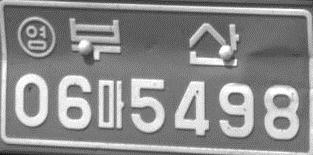0: (13, 71, 50, 127)
4: (173, 80, 209, 137)
5: (129, 77, 165, 134)
6: (57, 73, 91, 129)
8: (263, 83, 300, 140)
9: (217, 82, 255, 138)
마: (97, 78, 125, 131)
부산_D: (67, 16, 240, 68)
영: (16, 16, 55, 58)
